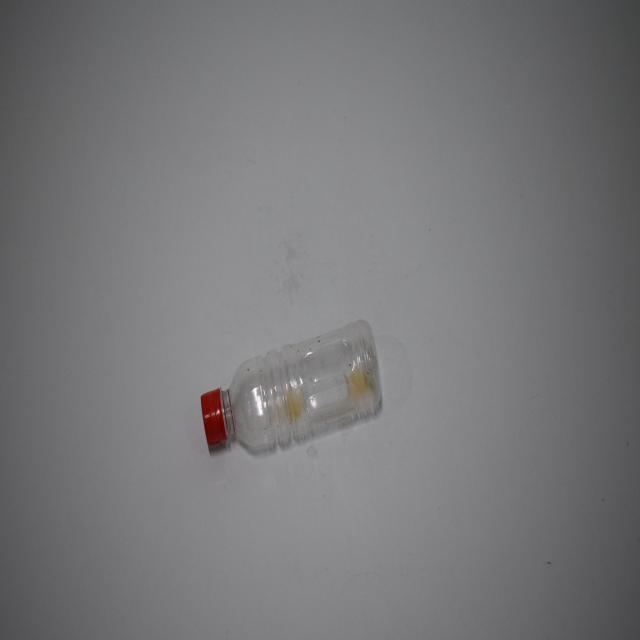empty: (201, 320, 381, 450)
